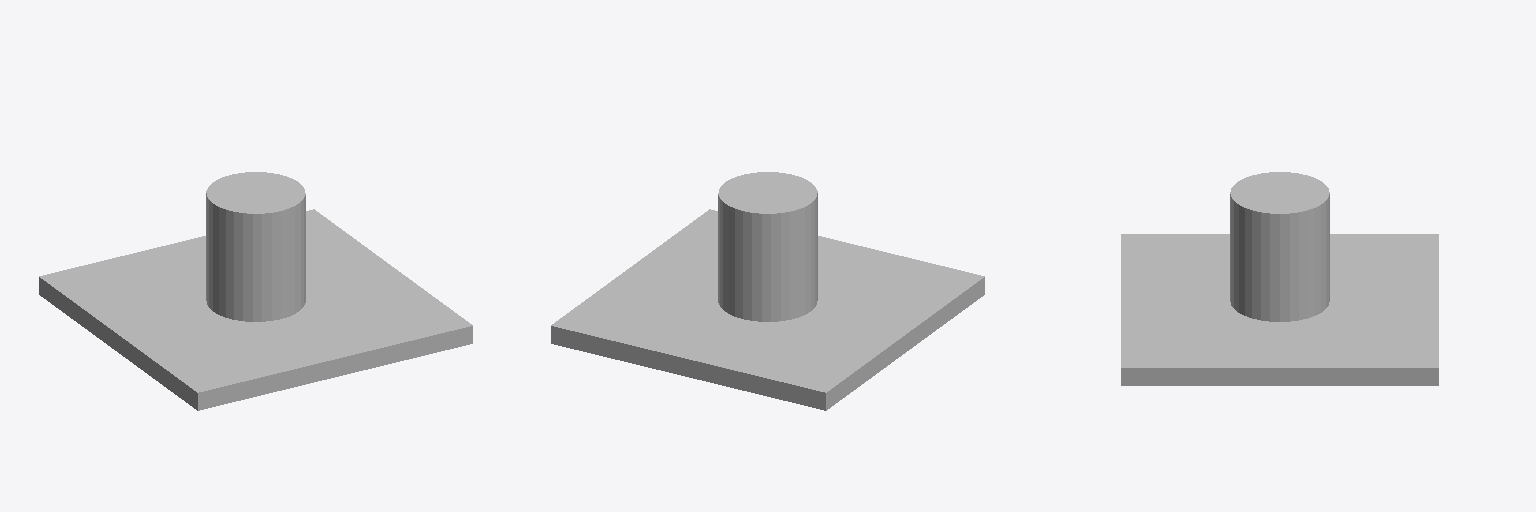
Rendered from machine_gun_base.obj.
3 renders of one model, left to right at view 1: azimuth 30°, elevation 25°; view 2: azimuth 150°, elevation 25°; view 3: azimuth 270°, elevation 25°, orthographic.
Visible parts, largest first — view 1: Cylinder_Cylinder.002; view 2: Cylinder_Cylinder.002; view 3: Cylinder_Cylinder.002.
Boxes of the visible parts, <box> form: Cylinder_Cylinder.002: <box>39,172,472,410</box>; Cylinder_Cylinder.002: <box>551,172,984,410</box>; Cylinder_Cylinder.002: <box>1121,172,1438,385</box>.
Size of the model in its own units: 1.6 by 0.7 by 1.6.